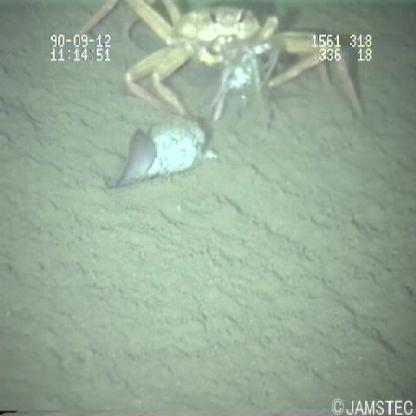Bio: (69, 1, 367, 193)
